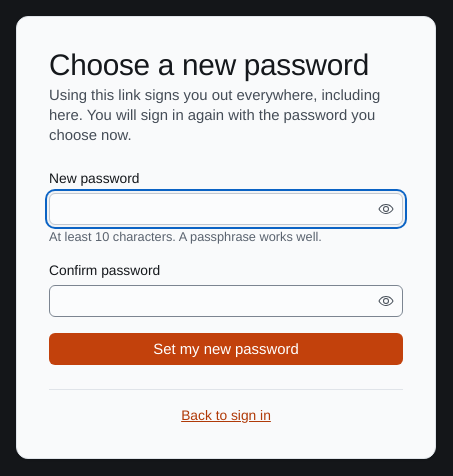
Scenario: ResetPasswordPage › sends the token with the password and shows the signed-out-everywhere screen
Type "analytical-engine-1843" into the password field labelled "New password". click: (212, 209)
box: [50,194,374,224]
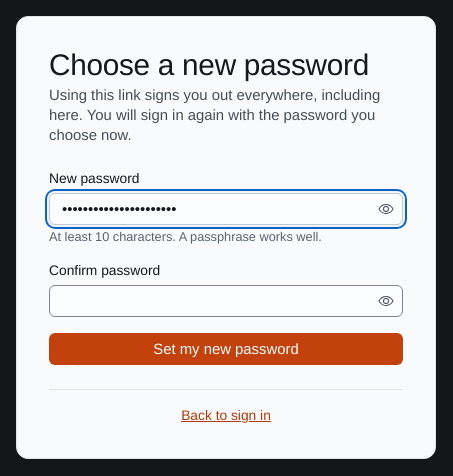
Type "analytical-engine-1843" into the password field labelled "Confirm password". click: (212, 301)
box: [50,286,374,316]
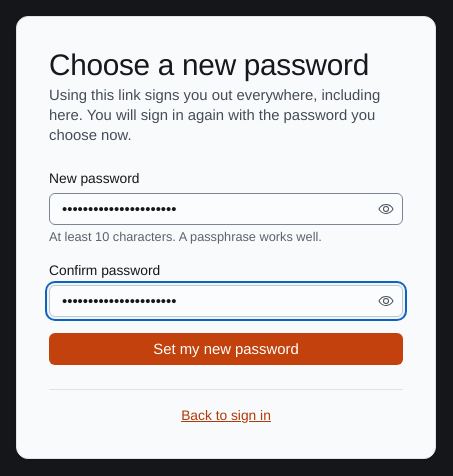
Click the button "Set my new password". click: (226, 349)
box: [49,333,403,365]
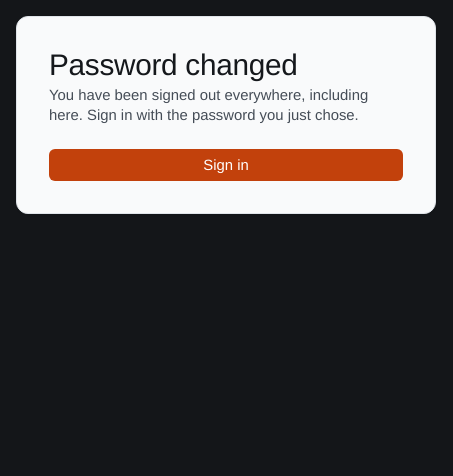
Expected: the heading "Password changed" is shown, [49,47,298,83]
Expected: the text "signed out everywhere" is shown, [49,86,368,124]
